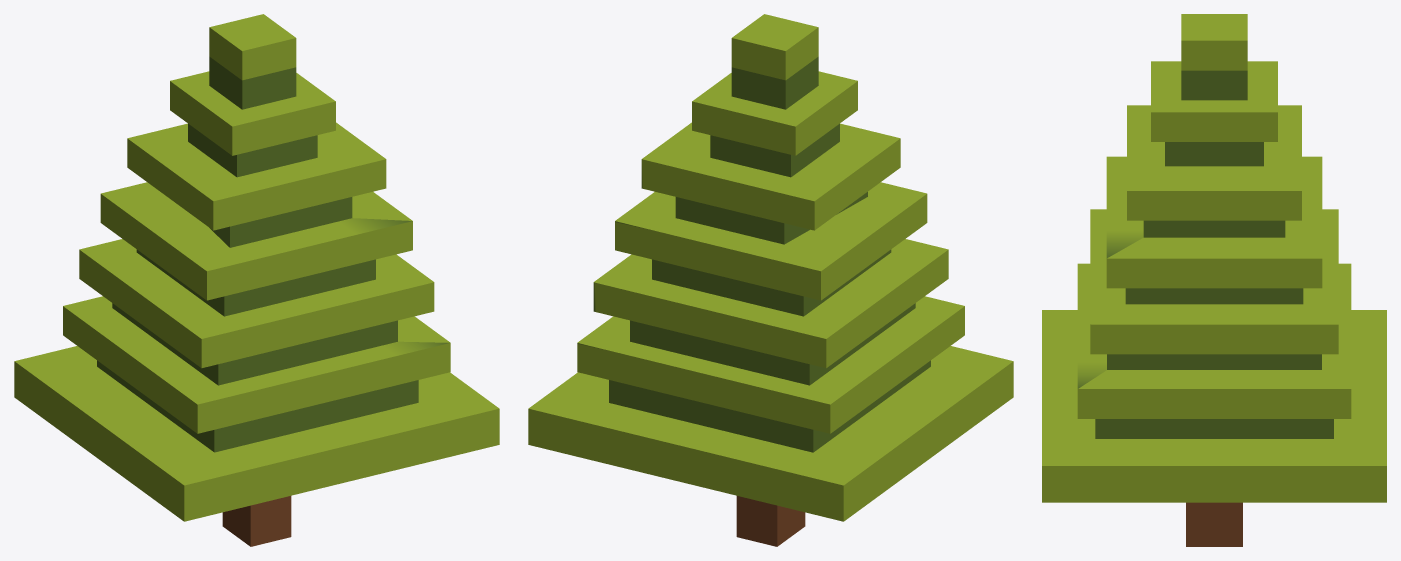
File: tree.FBX
3 views of the same model, side by side, from view 1: azimuth 30°, elevation 25°; view 2: azimuth 150°, elevation 25°; view 3: azimuth 270°, elevation 25° (orthographic).
Visible parts, largest first — view 1: Box001; view 2: Box001; view 3: Box001.
Part boxes in pixels (<box>): Box001: <box>14,14,499,546</box>; Box001: <box>528,14,1013,546</box>; Box001: <box>1042,14,1386,546</box>.
Bounding box in the file's own units: 69.25 × 105 × 64.62.
